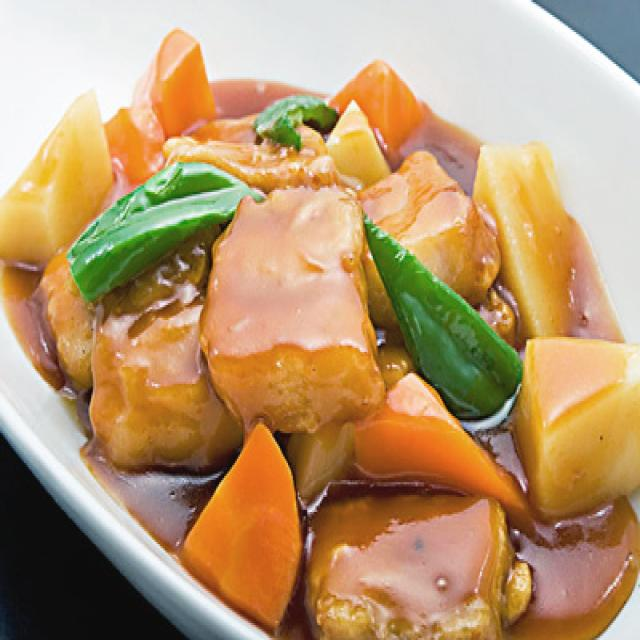猪肉菜式: (0, 30, 640, 640)
